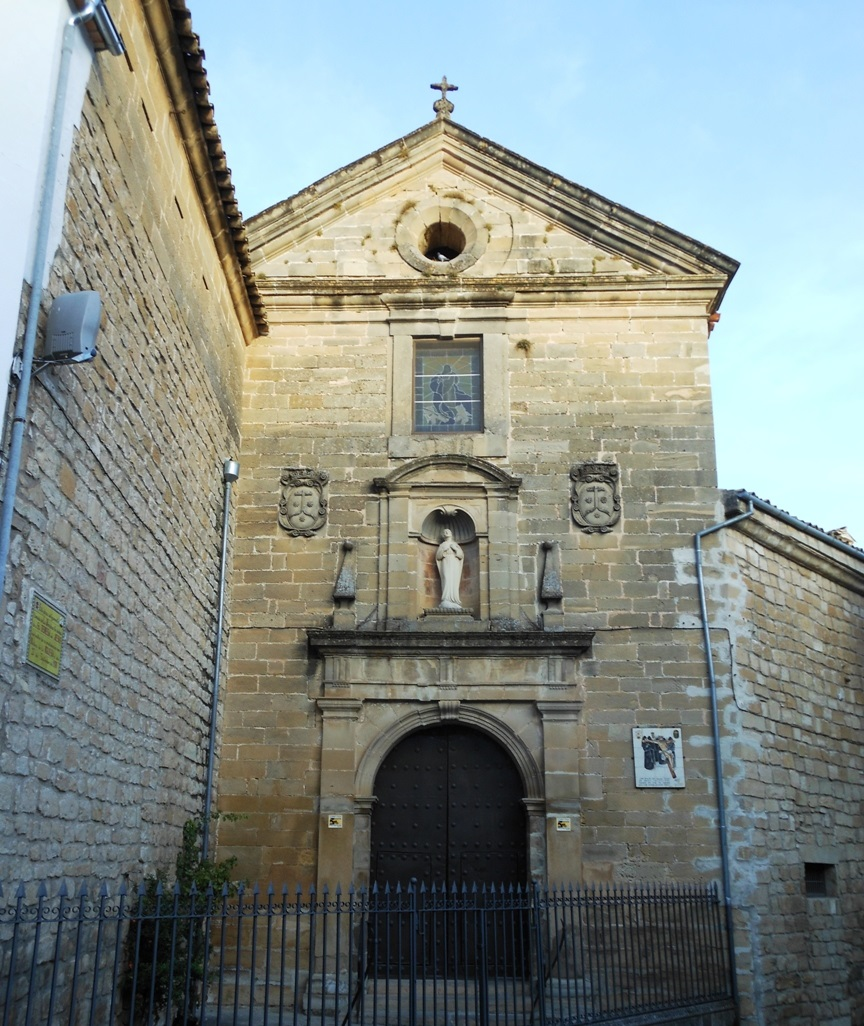arco-medio-punto: (363, 714, 537, 823)
fronton-curvo: (382, 452, 520, 492)
ojo-de-buey: (411, 209, 471, 265)
vano-adintelado: (381, 316, 516, 440)
